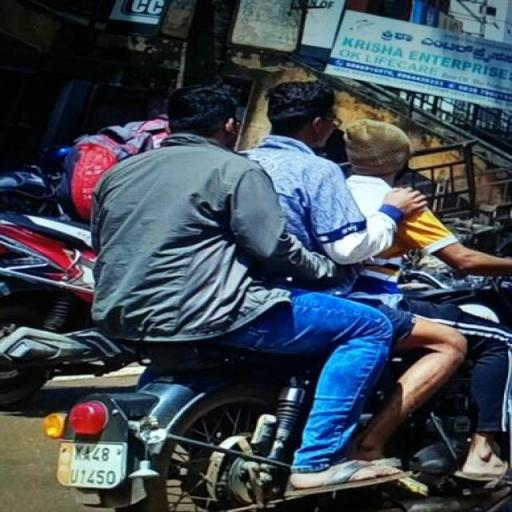tripple riding: (76, 80, 512, 369)
